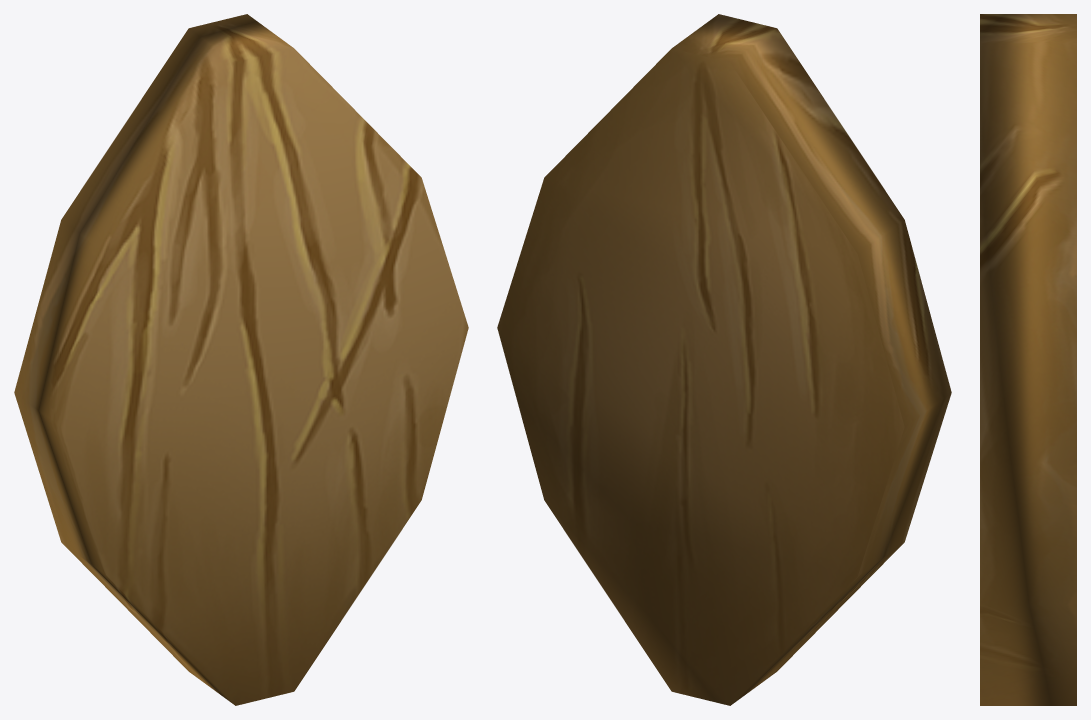
Rendered from F - Mana Stone.fbx.
3 renders of one model, left to right at view 1: azimuth 30°, elevation 25°; view 2: azimuth 150°, elevation 25°; view 3: azimuth 270°, elevation 25°, orthographic. The views are drawn at different scales.
Visible parts, largest first — view 1: Woodstone; view 2: Woodstone; view 3: Woodstone.
Part boxes in pixels (x1,y1,x2,y2): Woodstone: (14, 14, 468, 705); Woodstone: (497, 14, 951, 705); Woodstone: (980, 14, 1076, 705).
Size of the model in its own units: 9.28 by 14 by 1.86.
1 material, 1 textured.
